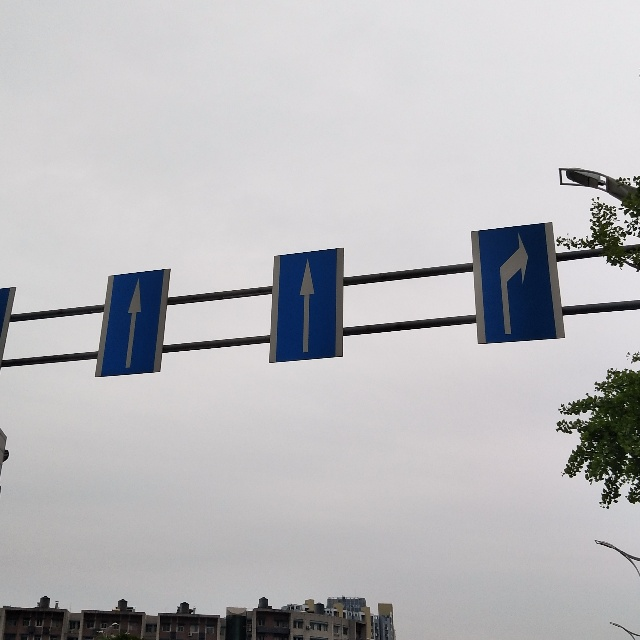right: (490, 229, 544, 336)
straight: (114, 275, 153, 367), (290, 255, 323, 354)
